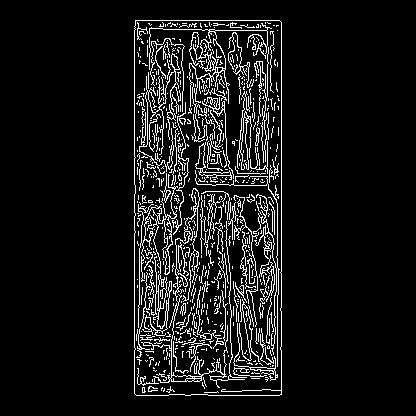buddha-pyre: (34, 74, 212, 80)
